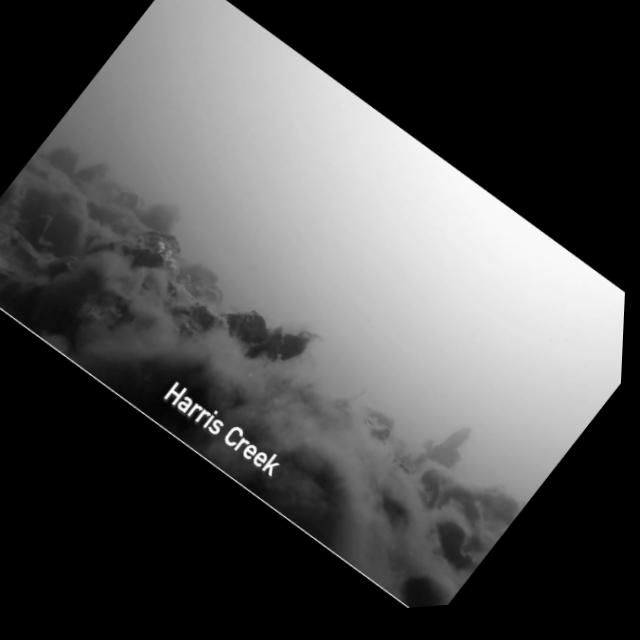Oyster-Closed: (172, 265, 200, 292)
Oyster-Indeterminate: (423, 473, 503, 551), (57, 279, 128, 347), (380, 550, 460, 610), (466, 470, 530, 532), (220, 297, 278, 354), (181, 295, 235, 346), (424, 511, 476, 563), (138, 217, 191, 267), (0, 223, 47, 272), (407, 464, 452, 510), (253, 321, 297, 367), (435, 418, 478, 463), (358, 411, 396, 449), (276, 326, 313, 363), (154, 274, 190, 309), (198, 276, 233, 310), (47, 245, 80, 279), (198, 288, 222, 311)
Oyster-Open: (100, 221, 174, 292)
